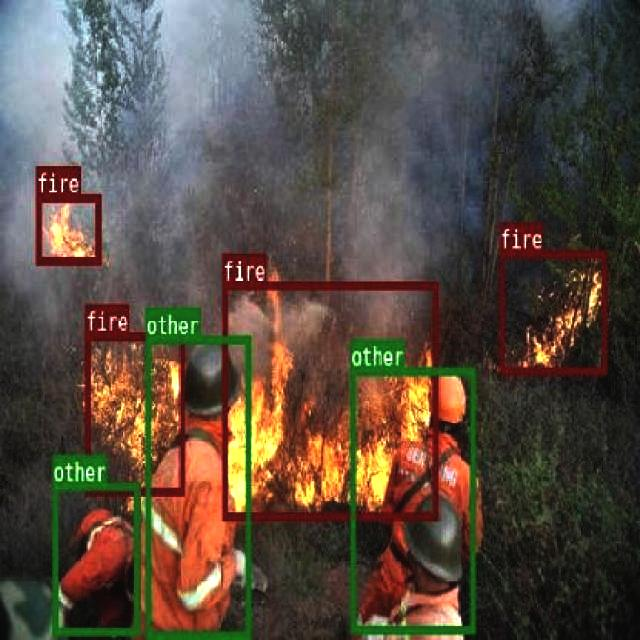fire: (222, 280, 438, 520), (84, 330, 184, 495), (498, 249, 606, 374), (35, 194, 100, 263)
